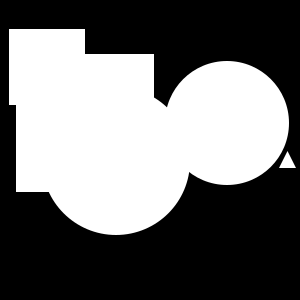circle: (16, 54, 154, 192), (9, 29, 85, 105)
rectangle: (42, 87, 190, 235), (165, 61, 289, 185)
triangle: (279, 151, 296, 168)
